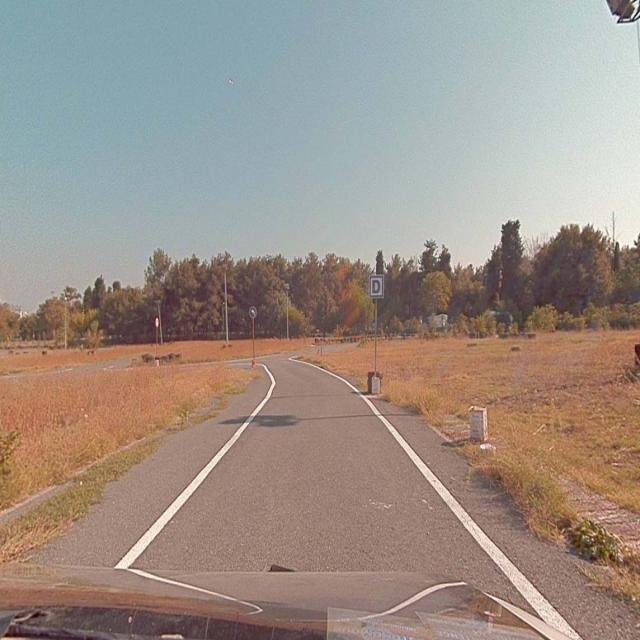durak: (368, 275, 383, 297)
sol: (250, 306, 256, 317)
